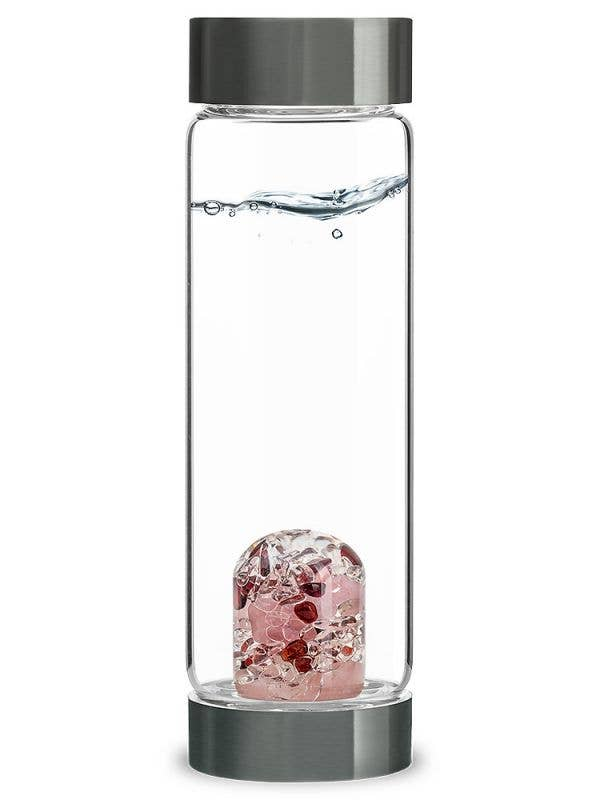glass_bottle: (175, 9, 426, 792)
